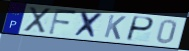0: (155, 19, 178, 45)
F: (47, 7, 79, 36)
K: (102, 14, 127, 41)
P: (124, 15, 155, 43)
X: (72, 11, 105, 40), (23, 6, 52, 34)
